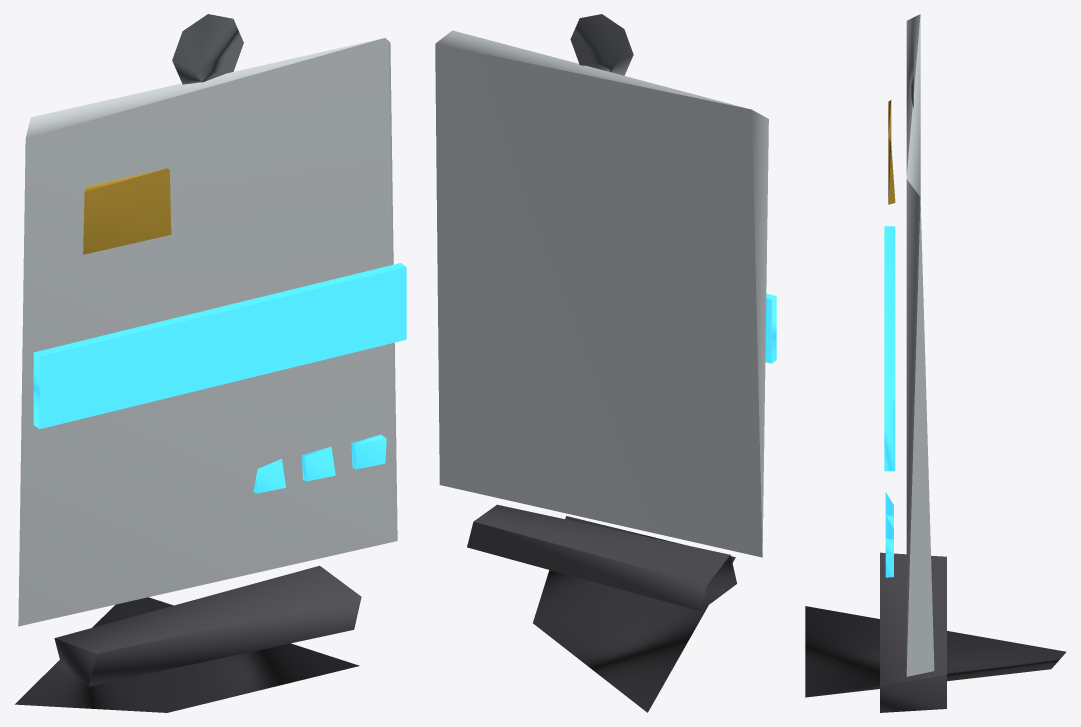
Rendered from keycard_lod2.glb.
The picture shows the model from 3 angles, left to right: view 1: azimuth 30°, elevation 25°; view 2: azimuth 150°, elevation 25°; view 3: azimuth 270°, elevation 25°; orthographic projection. The views are drawn at different scales.
Parts seen in each view (by area): view 1: prop.keycard; view 2: prop.keycard; view 3: prop.keycard.
Part boxes in pixels (<box>): prop.keycard: <box>15,14,406,712</box>; prop.keycard: <box>435,14,776,712</box>; prop.keycard: <box>805,14,1066,712</box>.
Bounding box in the file's own units: 0.3006 × 0.55 × 0.1881.
